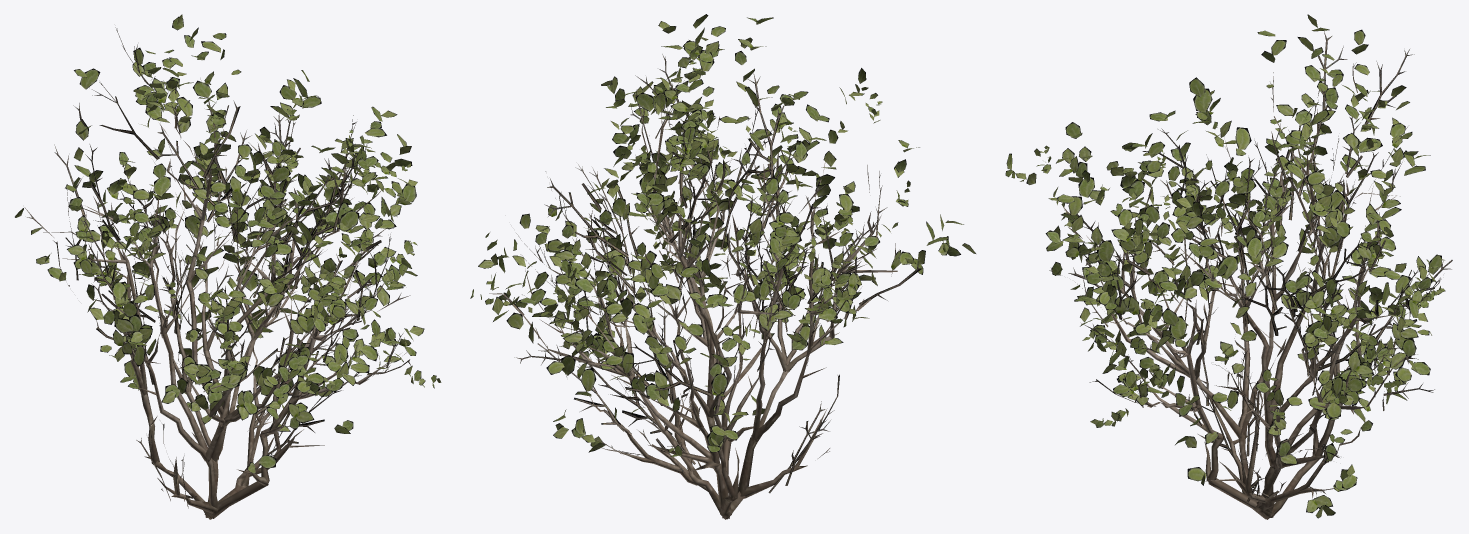
The model's file is arbuste_searsia_a_lod0.glb.
3 renders of one model, left to right at view 1: azimuth 30°, elevation 25°; view 2: azimuth 150°, elevation 25°; view 3: azimuth 270°, elevation 25°, orthographic.
Parts seen in each view (by area): view 1: searsia_lucida_a_LOD0; view 2: searsia_lucida_a_LOD0; view 3: searsia_lucida_a_LOD0.
Boxes of the visible parts, <box> form: searsia_lucida_a_LOD0: <box>15,14,441,519</box>; searsia_lucida_a_LOD0: <box>470,14,975,519</box>; searsia_lucida_a_LOD0: <box>1005,14,1452,519</box>.
Bounding box in the file's own units: 1.73 × 2.32 × 1.89.
Materials: 2 (2 with a texture image).
